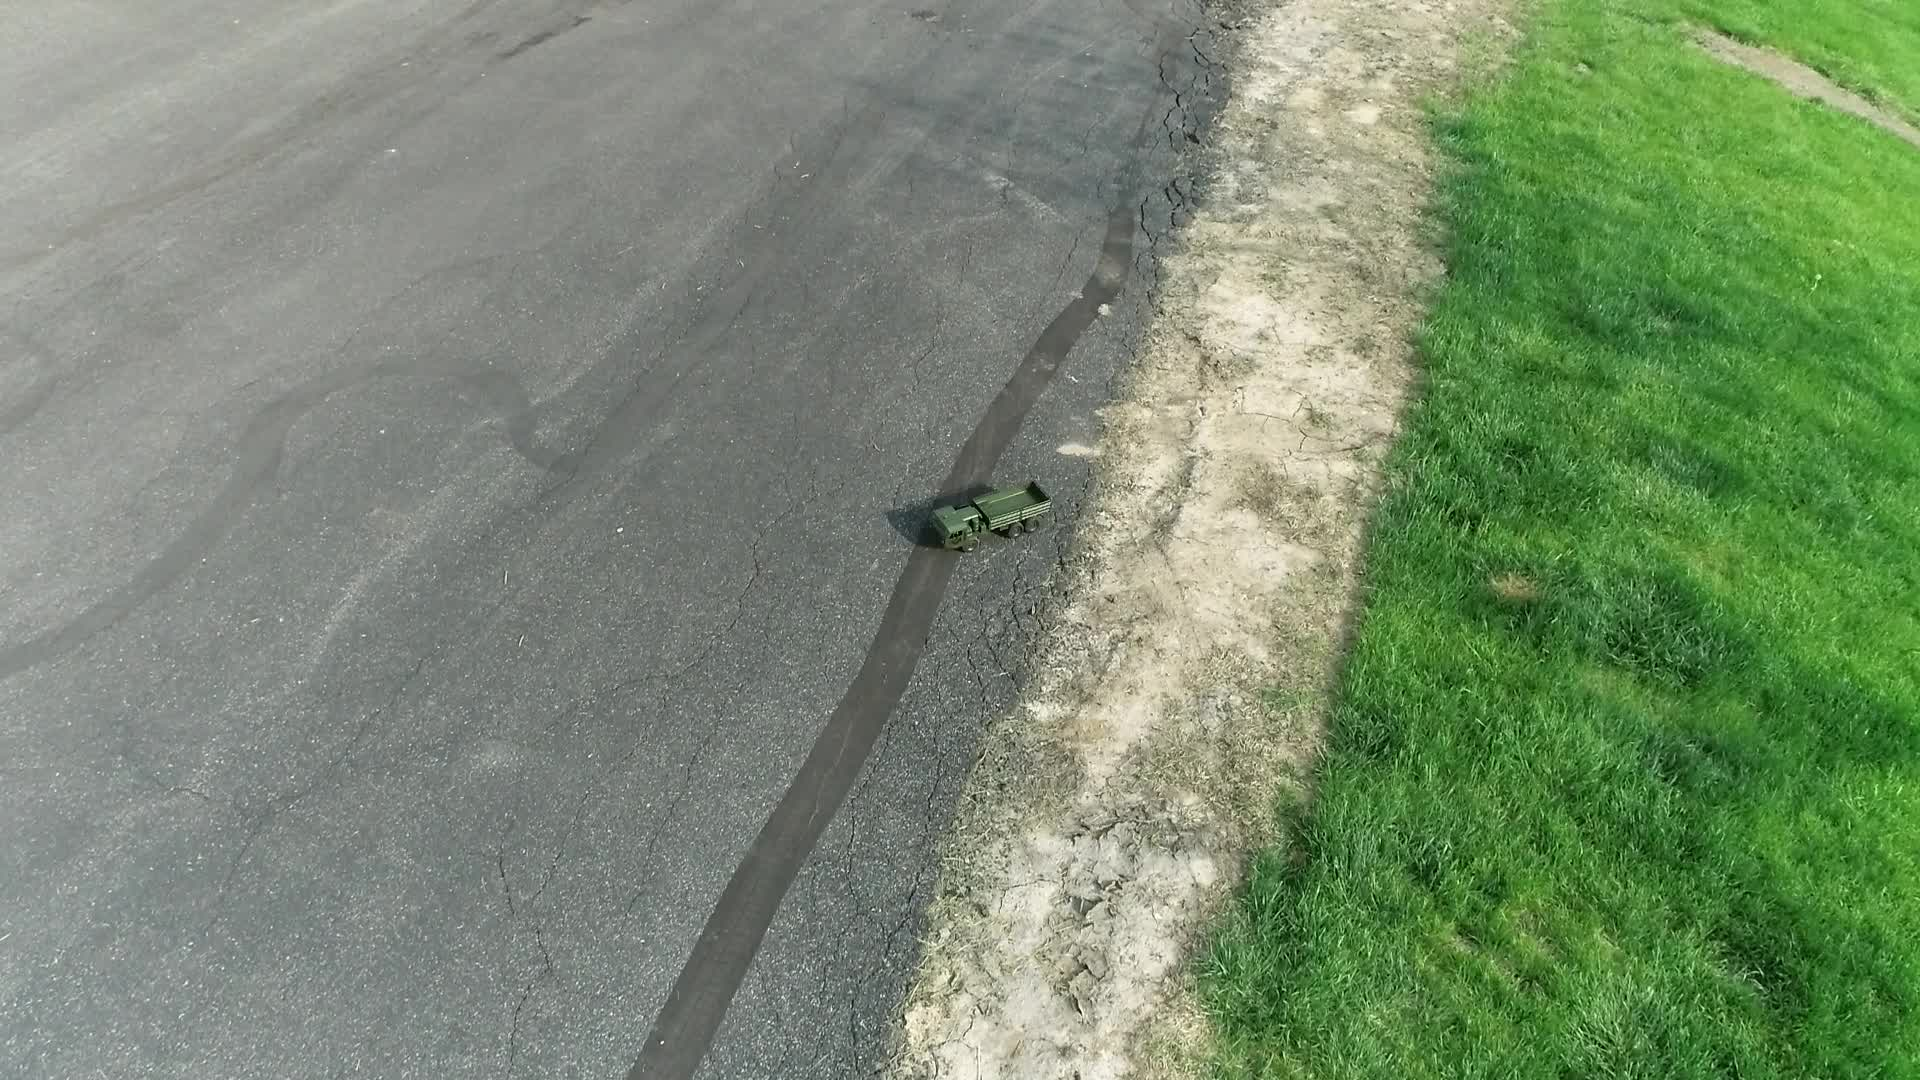transporter9: (913, 481, 1058, 546)
